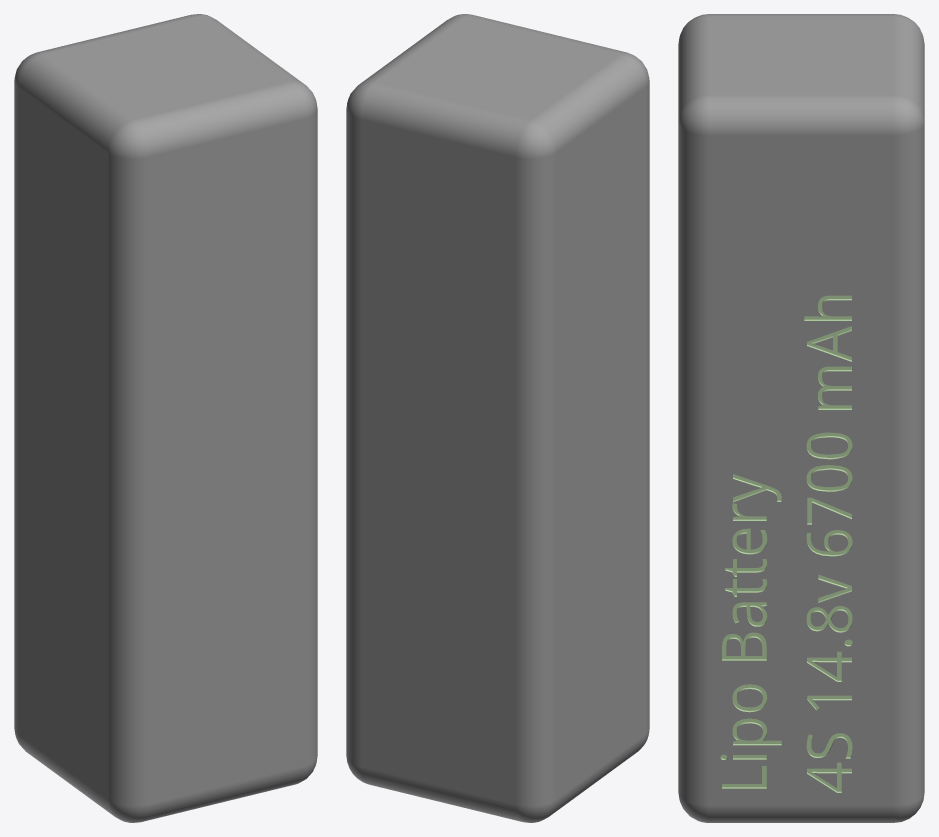
File: _MSDcq3wvBIfc42pCk.gltf
The picture shows the model from 3 angles, left to right: view 1: azimuth 30°, elevation 25°; view 2: azimuth 150°, elevation 25°; view 3: azimuth 270°, elevation 25°; orthographic projection. The views are drawn at different scales.
Visible parts, largest first — view 1: Battery; view 2: Battery; view 3: Battery.
Part boxes in pixels (x1,y1,x2,y2): Battery: (14, 14, 317, 822); Battery: (346, 14, 649, 822); Battery: (678, 14, 924, 822).
Bounding box in the file's own units: 0.04 × 0.13 × 0.04.
